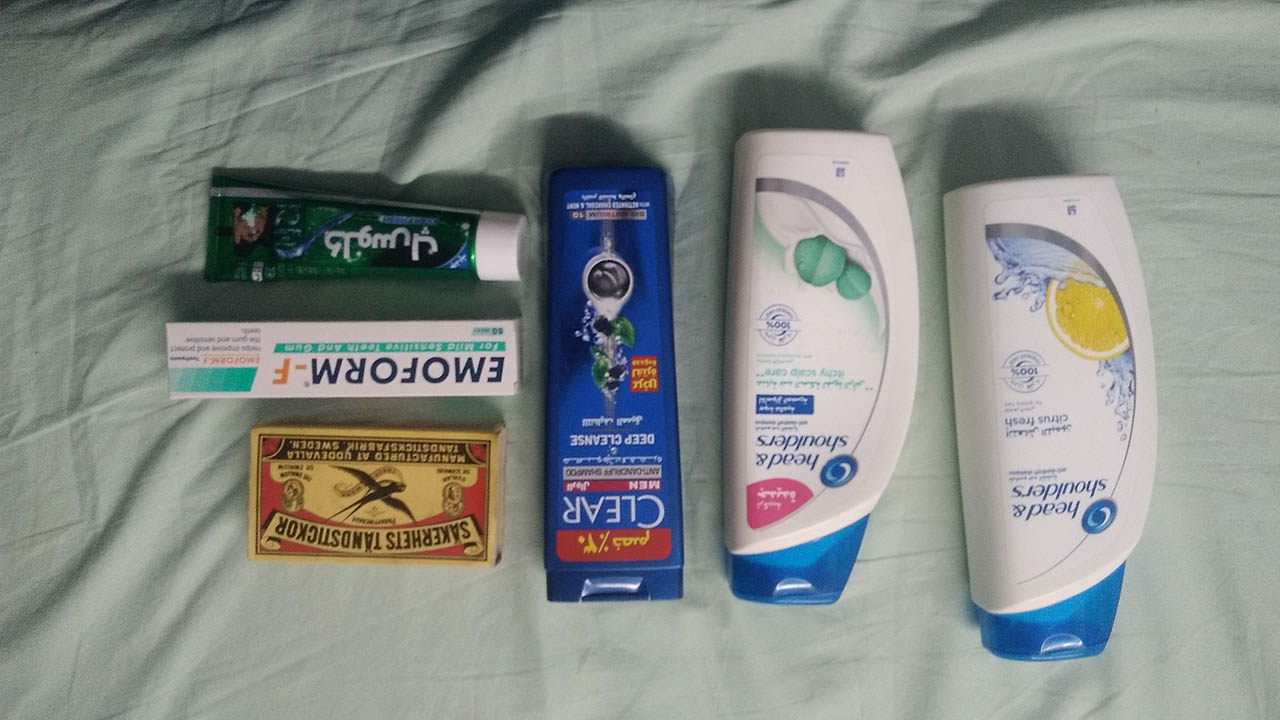Shampoo-Clear 4.7$: (536, 167, 672, 609)
Toothpaste-Closeup 3.04$: (170, 170, 526, 290)
Toothpaste-F 1.5$: (152, 313, 520, 401)
match-sticks .90$: (224, 423, 506, 564)
shampoo-Lemon 3.5$: (939, 168, 1153, 646)
shampoo-green 4.5$: (732, 130, 915, 597)
